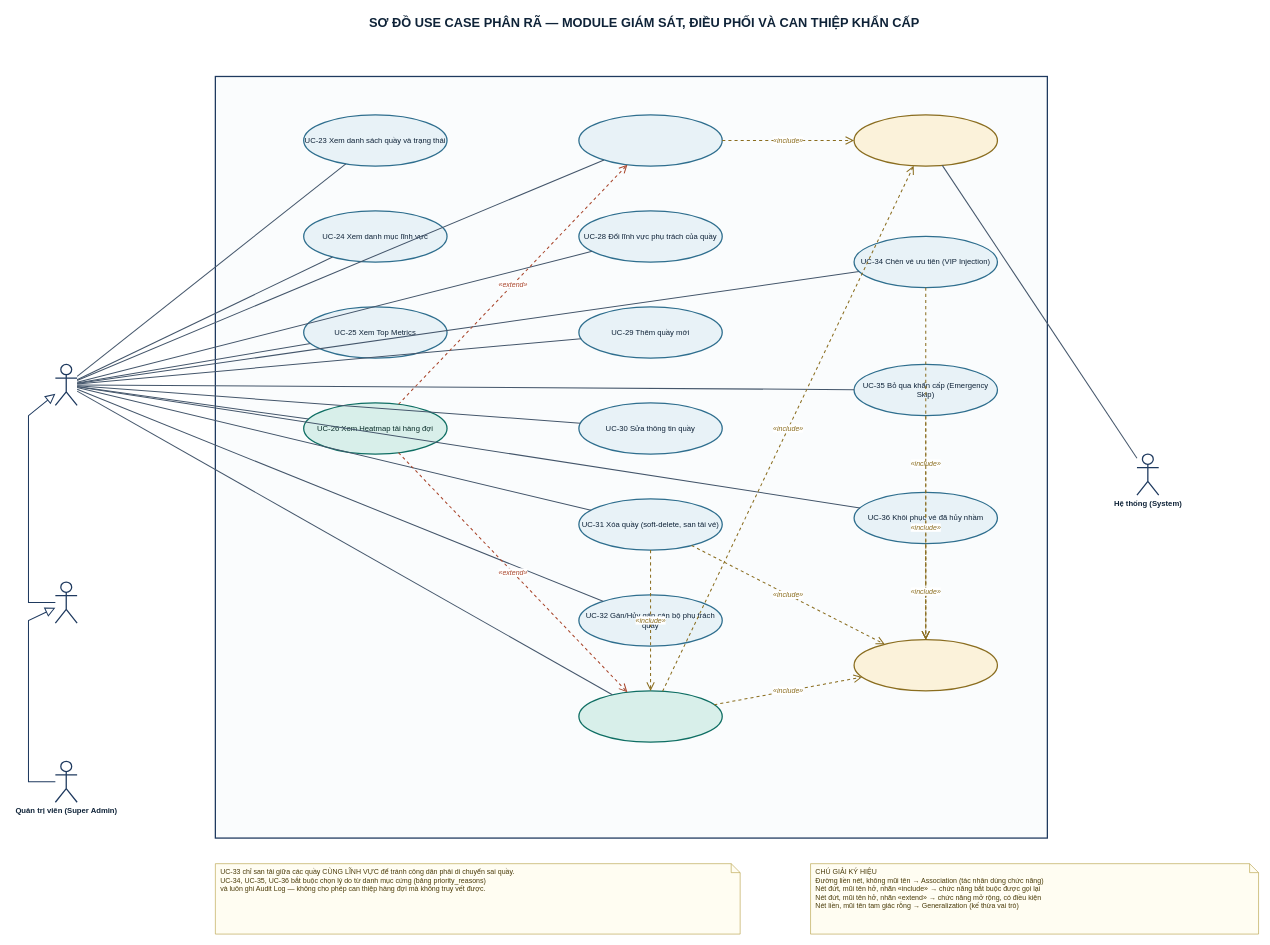
The diagram is 1270 pixels wide and 945 high, and some of its shapes have lost their labels. The box of each missing label's shape, as (x1, y1, x2, y2) in pixels:
Cán bộ Điều phối (Supervisor): (54, 364, 77, 406)
Ghi nhật ký Audit Log (bắt buộc kèm lý do): (853, 639, 998, 691)
Phát sự kiện realtime WebSocket: (853, 114, 998, 166)
Phân hệ Admin Control Tower — Giám sát và Điều phối: (214, 76, 1048, 838)
Trưởng Trung tâm (Manager): (54, 581, 77, 623)
UC-27 Đổi trạng thái quầy (Mở/Đóng/Tạm dừng): (578, 114, 723, 166)
UC-33 Cân bằng tải hàng đợi (Force Re-balance): (578, 690, 723, 742)
